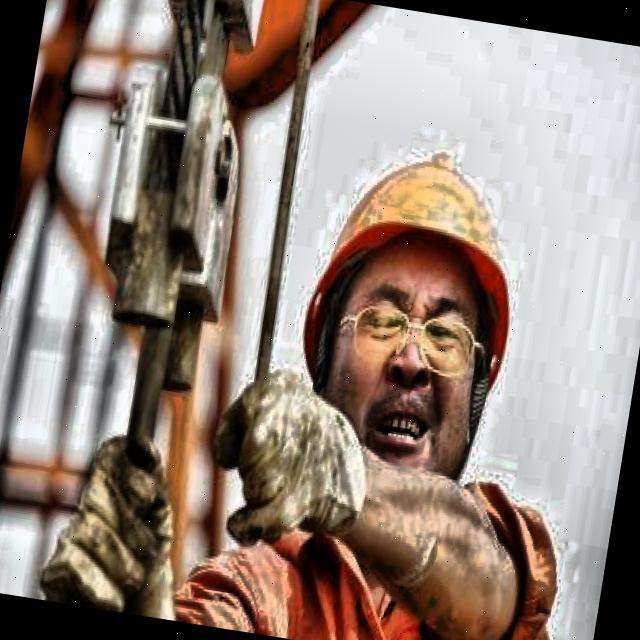helmet: (255, 79, 569, 536)
